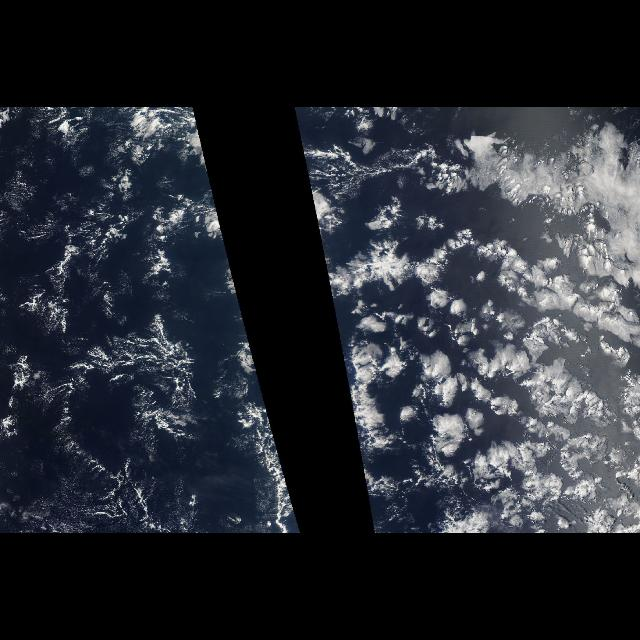Flower: (328, 189, 640, 533)
Gravel: (8, 268, 242, 518)
